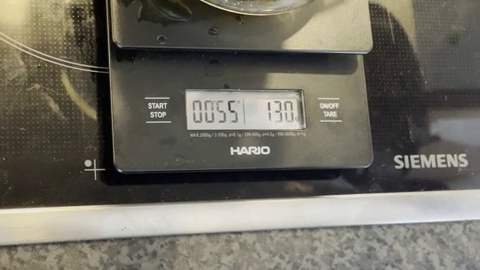display: (185, 89, 305, 129)
